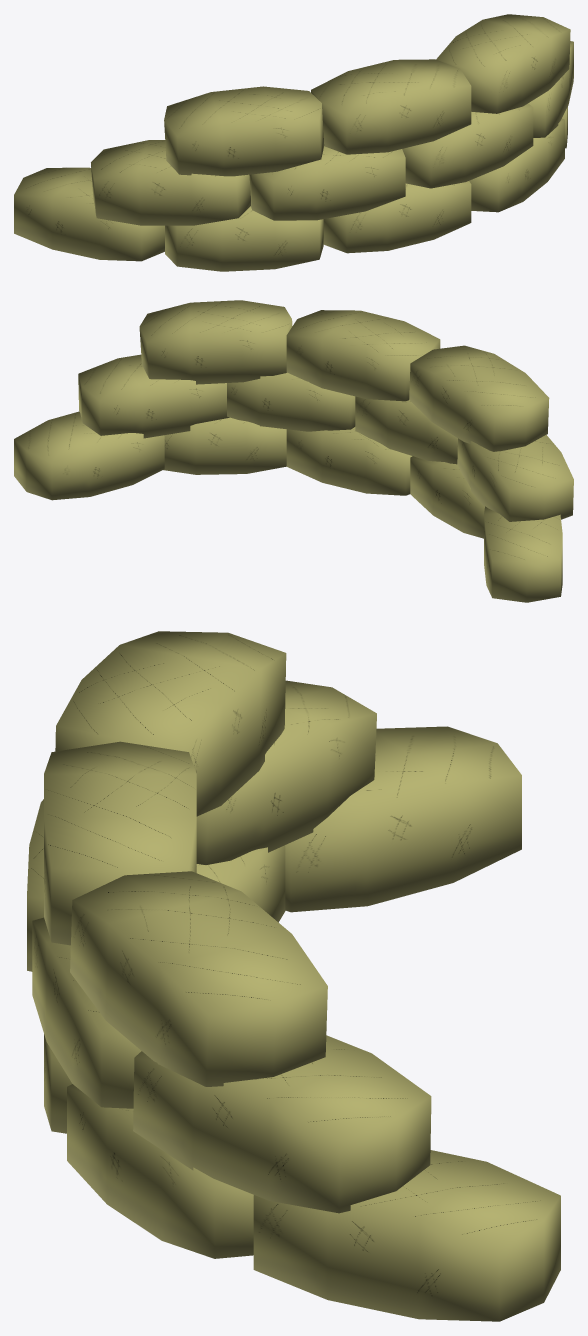
The model's file is Sandbags Curved.glb.
3 renders of one model, top to bottom at view 1: azimuth 30°, elevation 25°; view 2: azimuth 150°, elevation 25°; view 3: azimuth 270°, elevation 25°, orthographic. The views are drawn at different scales.
Parts seen in each view (by area): view 1: Sandbag Curved; view 2: Sandbag Curved; view 3: Sandbag Curved.
Boxes of the visible parts, x1,y1,x2,y2 form: Sandbag Curved: (14,14,573,271); Sandbag Curved: (14,300,573,602); Sandbag Curved: (27,631,560,1321).
Bounding box in the file's own units: 4.52 × 1.17 × 1.96.
Materials: 1 (1 with a texture image).
